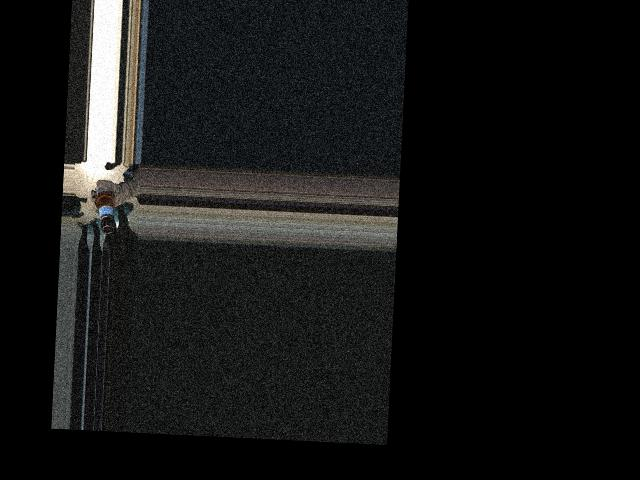beer: (92, 182, 116, 233)
